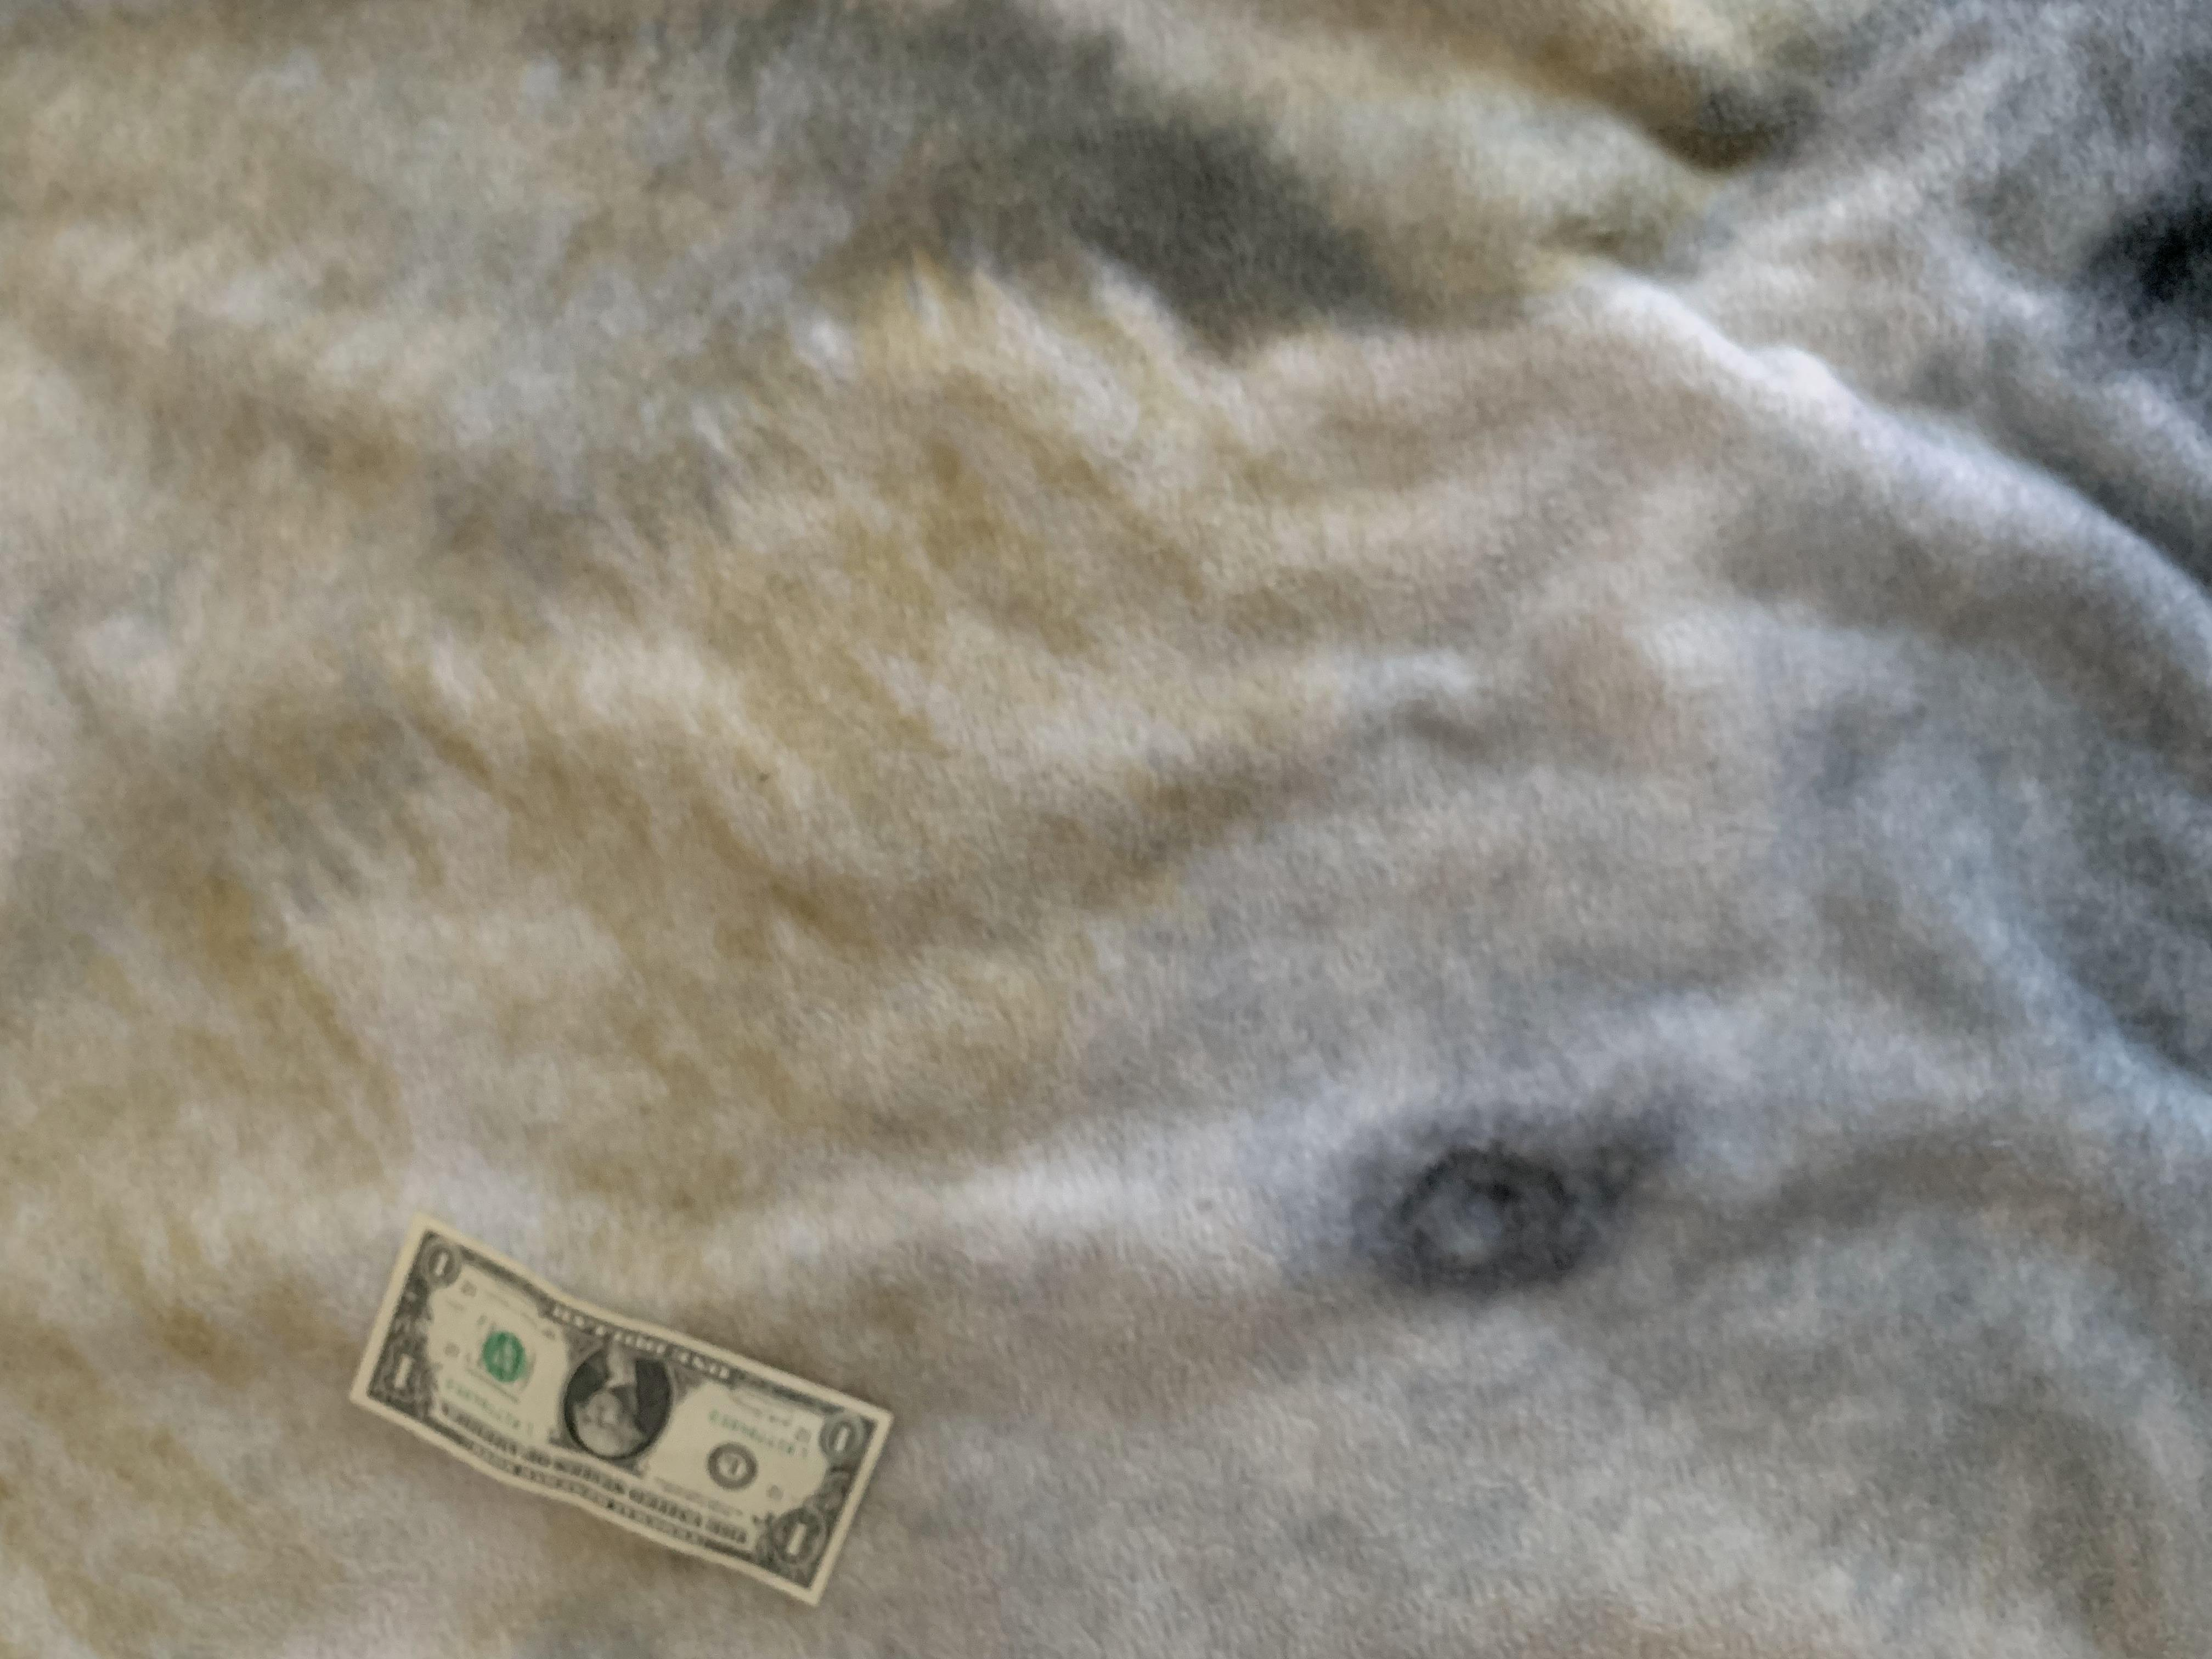OneBill: (345, 1213, 894, 1605)
